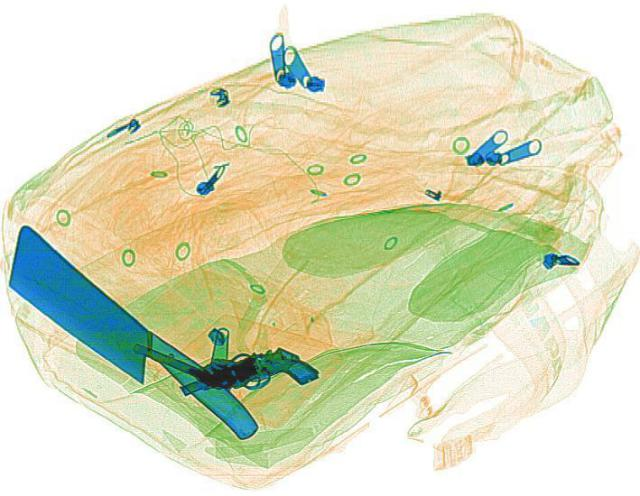Gun: (170, 333, 326, 418), (127, 313, 266, 394)
Knife: (0, 241, 268, 454)
